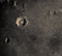crater: (11, 8, 35, 34)
